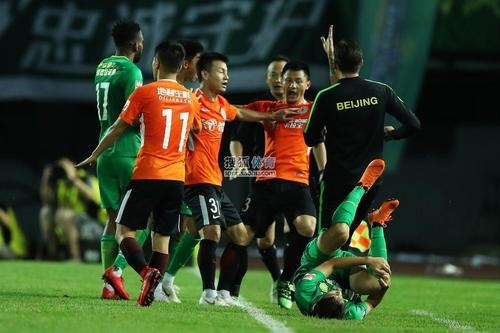falling: (286, 161, 409, 317)
